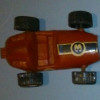carro: (2, 14, 98, 83)
